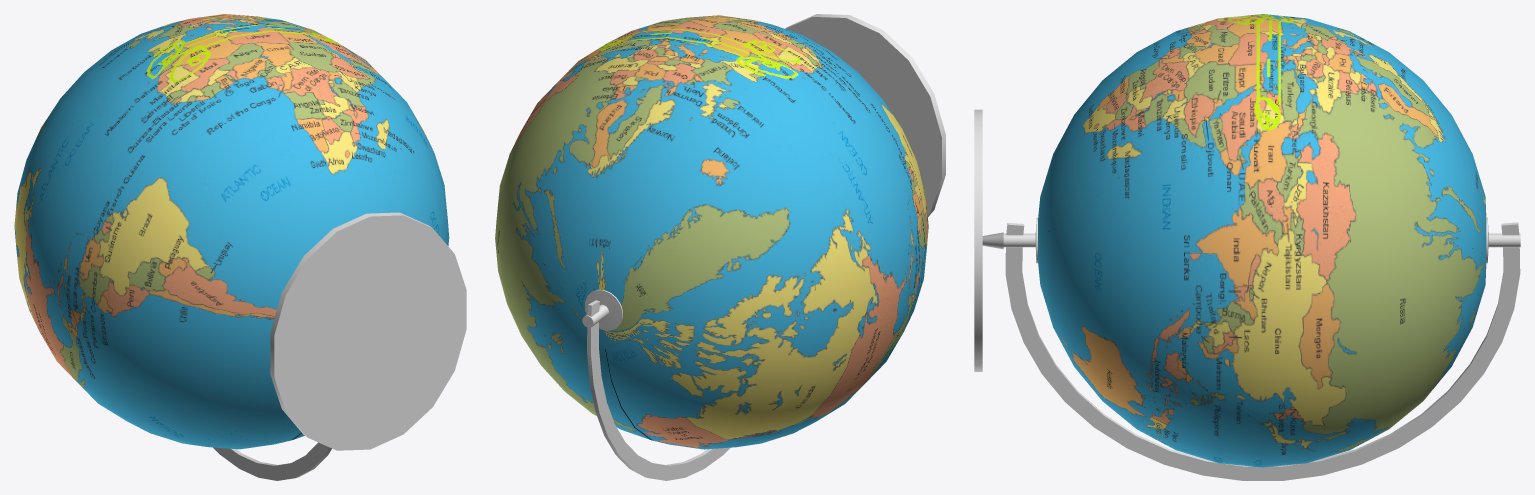
Rendered from Globe.FBX.
3 views of the same model, side by side, from view 1: azimuth 30°, elevation 25°; view 2: azimuth 150°, elevation 25°; view 3: azimuth 270°, elevation 25° (orthographic). The views are drawn at different scales.
Visible parts, largest first — view 1: Sphere001, Cylinder019, Arc001; view 2: Sphere001, Cylinder019, Arc001; view 3: Sphere001, Arc001, Cylinder019.
Boxes of the visible parts, box(x1,y1,x2,y2) form: Sphere001: box(14, 14, 449, 449); Cylinder019: box(270, 212, 466, 450); Arc001: box(213, 442, 331, 480); Sphere001: box(495, 15, 928, 449); Cylinder019: box(785, 14, 945, 216); Arc001: box(582, 289, 730, 480); Sphere001: box(1038, 14, 1486, 467); Arc001: box(1003, 217, 1520, 480); Cylinder019: box(974, 109, 1003, 371).
Size of the model in its own units: 24.12 by 26.09 by 29.02.
1 material, 1 textured.
